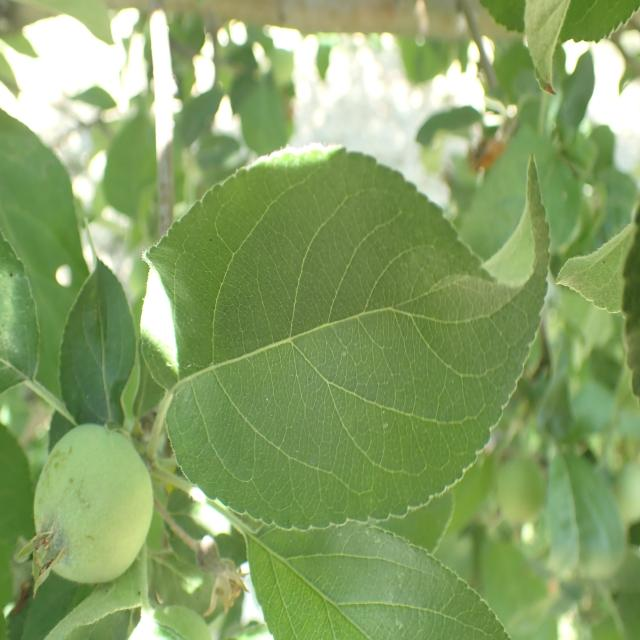healthy: (140, 142, 553, 531), (246, 518, 512, 640), (59, 257, 138, 431), (0, 232, 40, 392)
